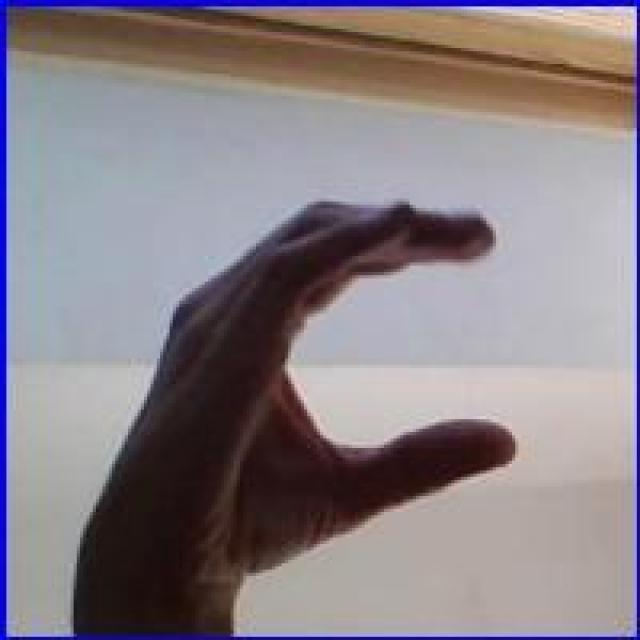C: (85, 198, 526, 586)
